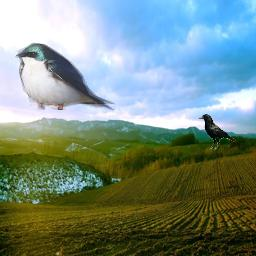Crow: (198, 114, 236, 150)
Swallow: (15, 42, 115, 110)
